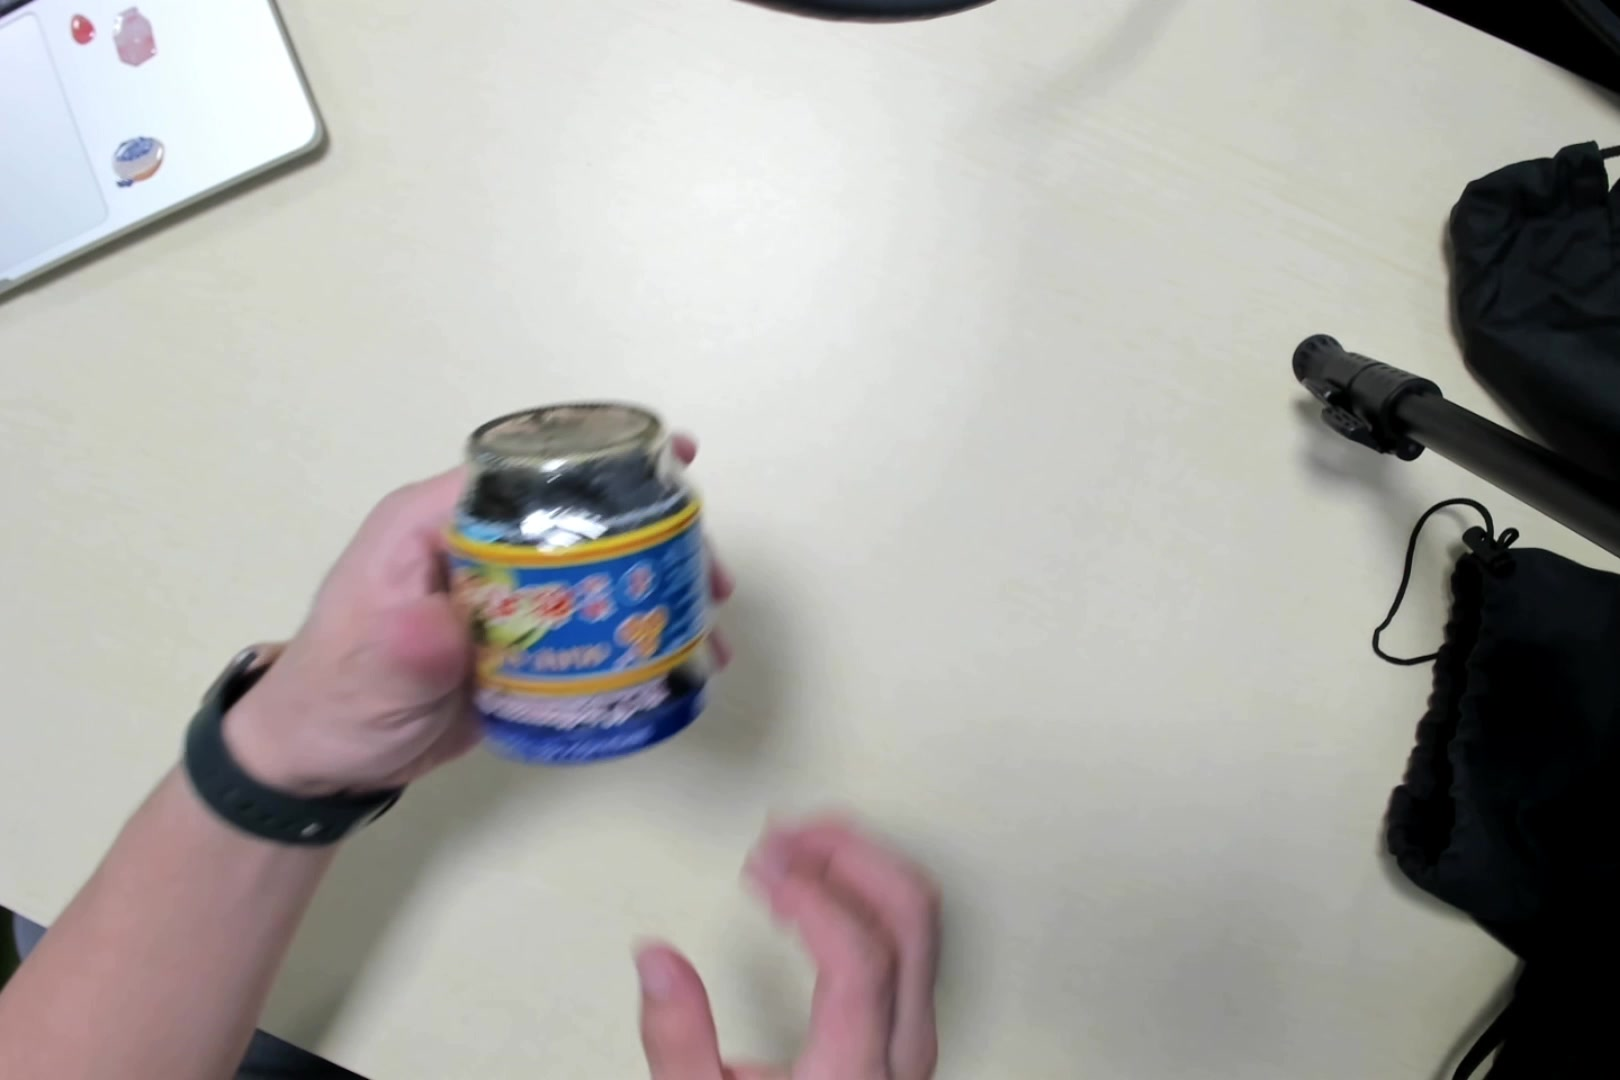CannedPickles_100-199g_NonHalal_NonHealthy: (446, 398, 723, 769)
